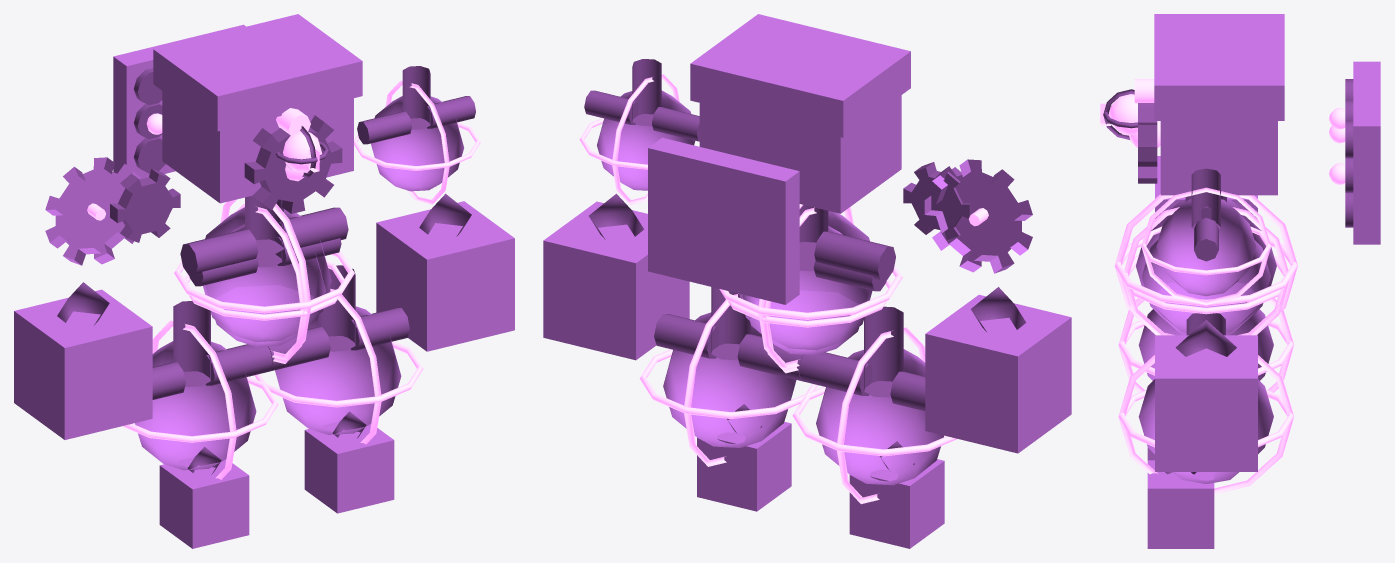
The model's file is golem_148.glb.
The picture shows the model from 3 angles, left to right: view 1: azimuth 30°, elevation 25°; view 2: azimuth 150°, elevation 25°; view 3: azimuth 270°, elevation 25°; orthographic projection. The views are drawn at different scales.
Parts seen in each view (by area): view 1: Body, Detail, Glow; view 2: Body, Detail, Glow; view 3: Body, Glow, Detail.
Boxes of the visible parts, x1=… form: Body: x1=14, y1=14, x2=514, y2=548; Detail: x1=57, y1=66, x2=475, y2=474; Glow: x1=87, y1=80, x2=480, y2=479; Body: x1=543, y1=14, x2=1071, y2=548; Detail: x1=584, y1=59, x2=1026, y2=469; Glow: x1=579, y1=74, x2=988, y2=504; Body: x1=1131, y1=14, x2=1380, y2=548; Glow: x1=1100, y1=79, x2=1345, y2=494; Detail: x1=1103, y1=79, x2=1353, y2=474.
Size of the model in its own units: 1.42 by 1.33 by 0.7536.
